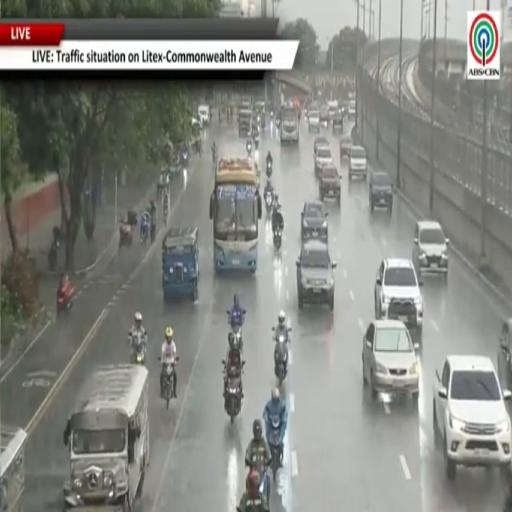bus: (210, 158, 261, 271), (0, 426, 26, 511), (280, 102, 299, 143)
car: (433, 356, 511, 479), (363, 320, 419, 398), (375, 259, 423, 338), (297, 240, 336, 310), (413, 220, 449, 277), (301, 201, 327, 243), (369, 171, 393, 212), (498, 317, 511, 388), (319, 166, 341, 203), (348, 145, 368, 180), (315, 146, 333, 174), (313, 136, 329, 157), (307, 110, 320, 133), (340, 135, 352, 159), (198, 104, 210, 125), (332, 111, 343, 133), (319, 104, 329, 125), (348, 101, 356, 119), (191, 116, 202, 127)
jeepney: (63, 364, 149, 511), (162, 228, 199, 301), (239, 109, 252, 137)
motorcycle: (225, 361, 245, 424), (249, 447, 270, 502), (273, 327, 291, 387), (267, 415, 282, 482), (163, 358, 178, 409), (227, 310, 245, 350), (119, 211, 137, 247), (57, 281, 74, 316), (48, 227, 61, 271), (119, 221, 133, 247), (48, 239, 59, 271), (141, 212, 150, 244), (134, 342, 145, 364), (264, 188, 273, 214), (273, 227, 282, 251), (163, 200, 168, 227), (266, 160, 272, 179), (246, 142, 252, 156), (255, 135, 259, 150)
